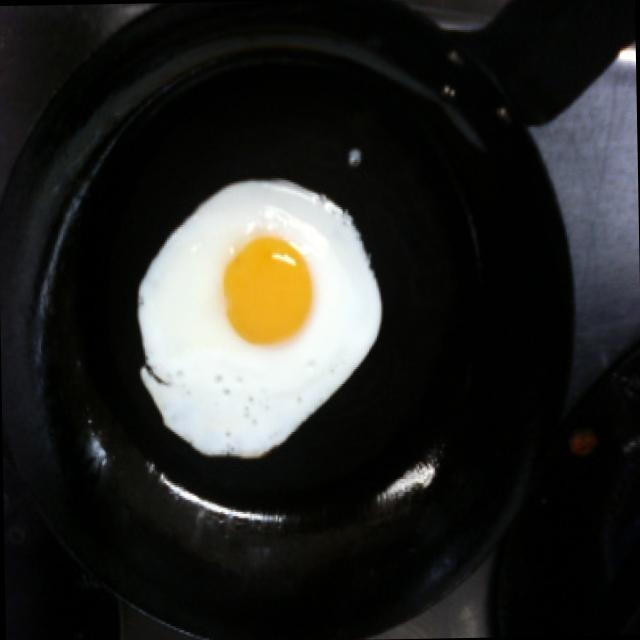Egg: (133, 170, 388, 466)
